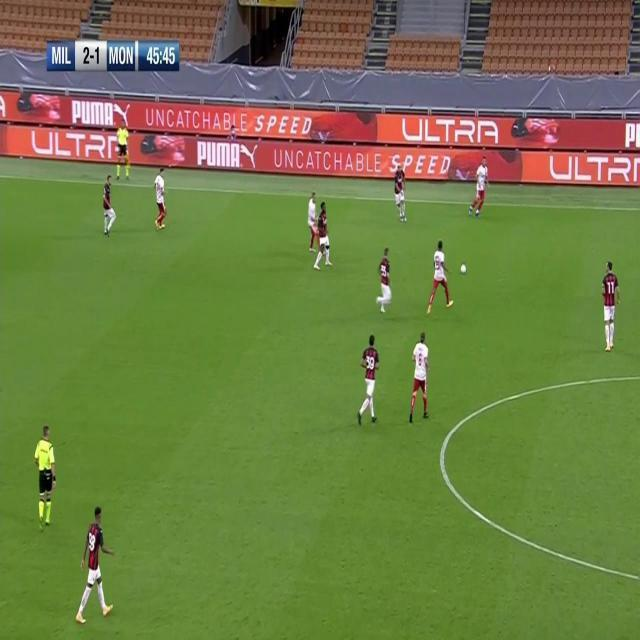ball: (459, 261, 467, 276)
player: (75, 504, 116, 630), (356, 333, 382, 427), (426, 239, 454, 317), (409, 331, 431, 425), (600, 258, 621, 353), (306, 193, 330, 267), (315, 202, 334, 272), (467, 159, 489, 219), (375, 247, 393, 318), (152, 166, 169, 234), (102, 173, 119, 239), (393, 160, 408, 226), (306, 191, 319, 254)
referee: (34, 422, 58, 534), (115, 113, 132, 183)
